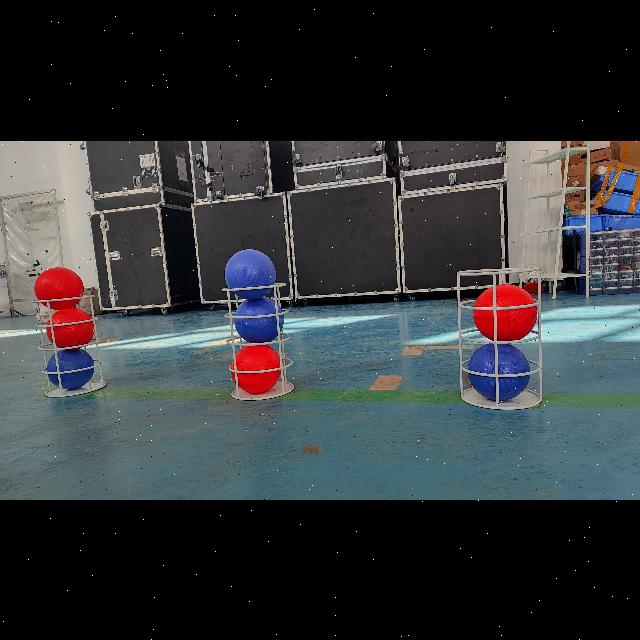B: (468, 341, 530, 401), (225, 248, 277, 300), (234, 296, 284, 344), (46, 346, 94, 388)
R: (473, 284, 537, 340), (232, 343, 284, 393), (35, 268, 85, 312), (46, 307, 92, 349)
S: (446, 263, 546, 412), (216, 280, 298, 402), (29, 288, 107, 398)
